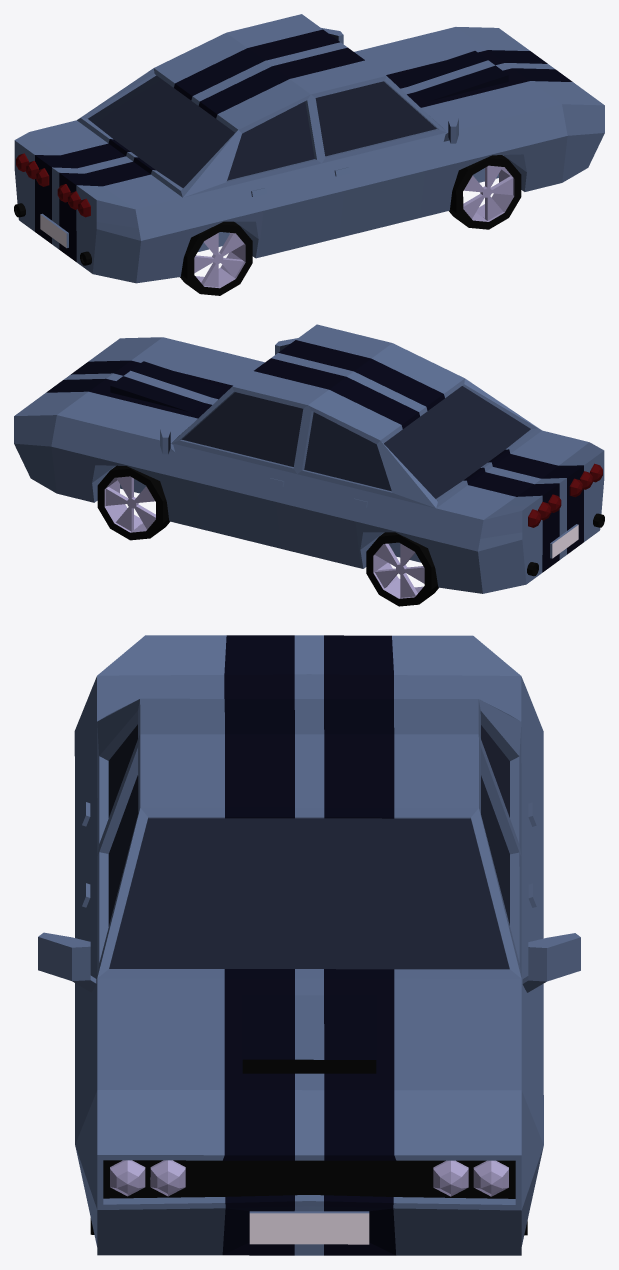
The model's file is car1.obj.
3 views of the same model, one above another, from view 1: azimuth 30°, elevation 25°; view 2: azimuth 150°, elevation 25°; view 3: azimuth 270°, elevation 25° (orthographic). The views are drawn at different scales.
Visible parts, largest first — view 1: Muscle_2; view 2: Muscle_2; view 3: Muscle_2.
Part boxes in pixels (left/top/right/bottom): Muscle_2: left=14, top=14, right=604, bottom=295; Muscle_2: left=14, top=324, right=604, bottom=606; Muscle_2: left=38, top=635, right=580, bottom=1255.
Bounding box in the file's own units: 3.63 × 1.15 × 1.69.
